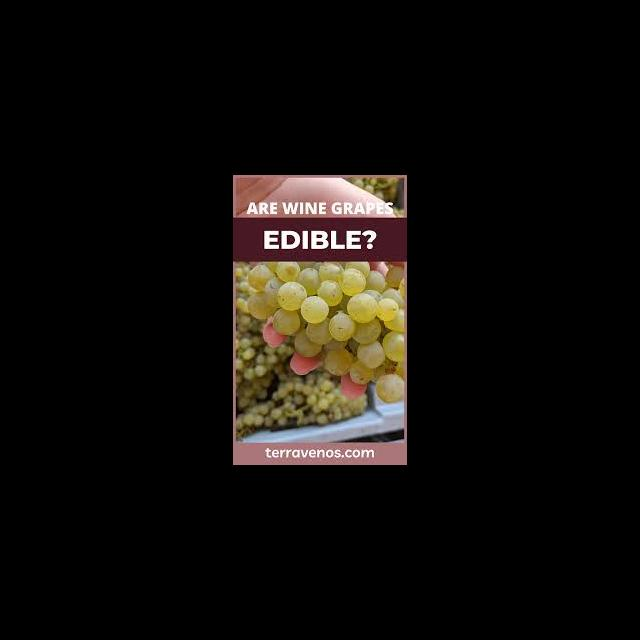grape: (235, 260, 405, 439)
